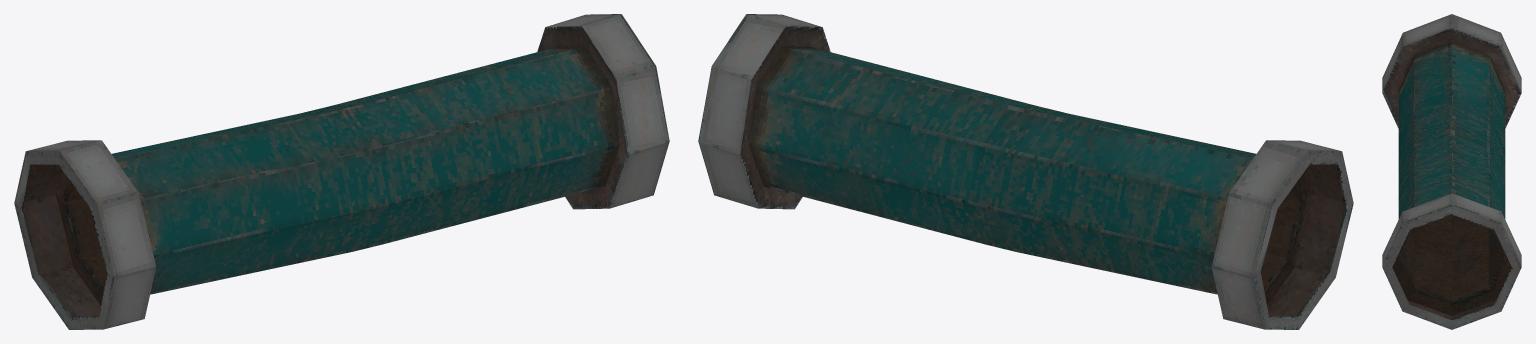
Rendered from pipe_straight.glb.
The picture shows the model from 3 angles, left to right: view 1: azimuth 30°, elevation 25°; view 2: azimuth 150°, elevation 25°; view 3: azimuth 270°, elevation 25°; orthographic projection. The views are drawn at different scales.
Parts seen in each view (by area): view 1: Pipe_V1_Straight; view 2: Pipe_V1_Straight; view 3: Pipe_V1_Straight.
Boxes of the visible parts, bbox=[...] form: Pipe_V1_Straight: bbox=[14, 14, 669, 329]; Pipe_V1_Straight: bbox=[698, 14, 1353, 329]; Pipe_V1_Straight: bbox=[1382, 14, 1521, 329].
Bounding box in the file's own units: 1.83 × 0.5687 × 0.5609.
Materials: 1 (1 with a texture image).
